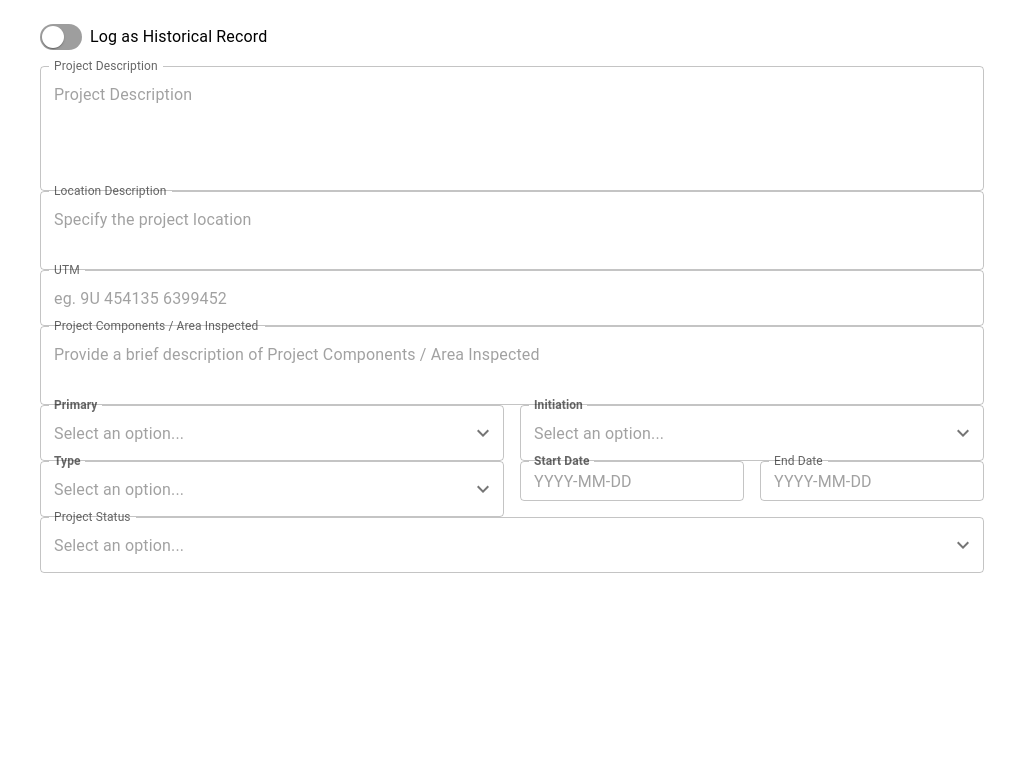
InspectionFormLeft Component › allows selecting primary officer
The width and height of the screenshot is (1024, 768).
Click the dropdown named "primaryOfficer". click: (257, 433)
box: [49, 414, 465, 452]
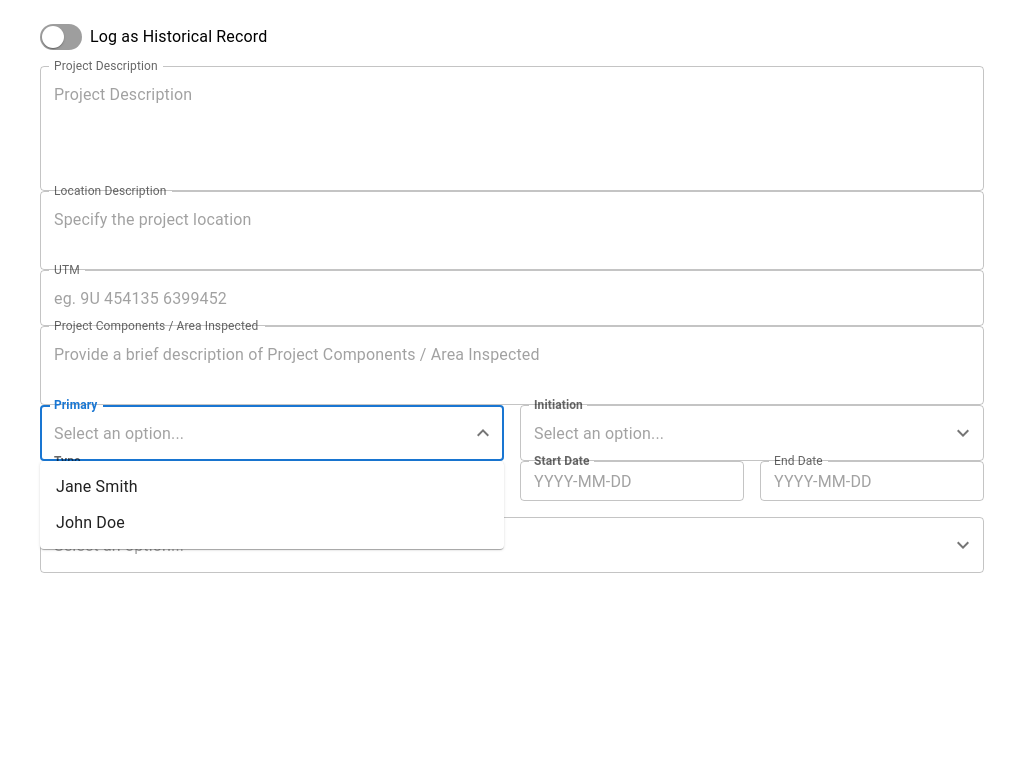
Click the text "John Doe". click: (91, 523)
box: [56, 511, 125, 535]
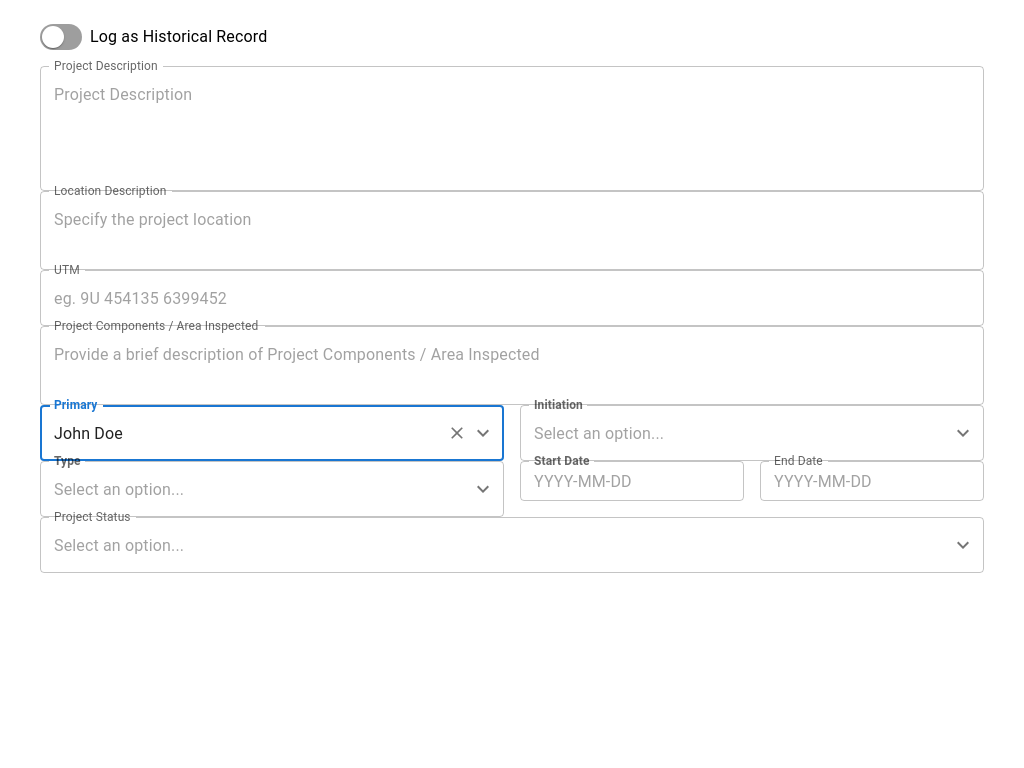
Expected: the dropdown named "primaryOfficer" holds "John Doe", [49, 414, 439, 452]
